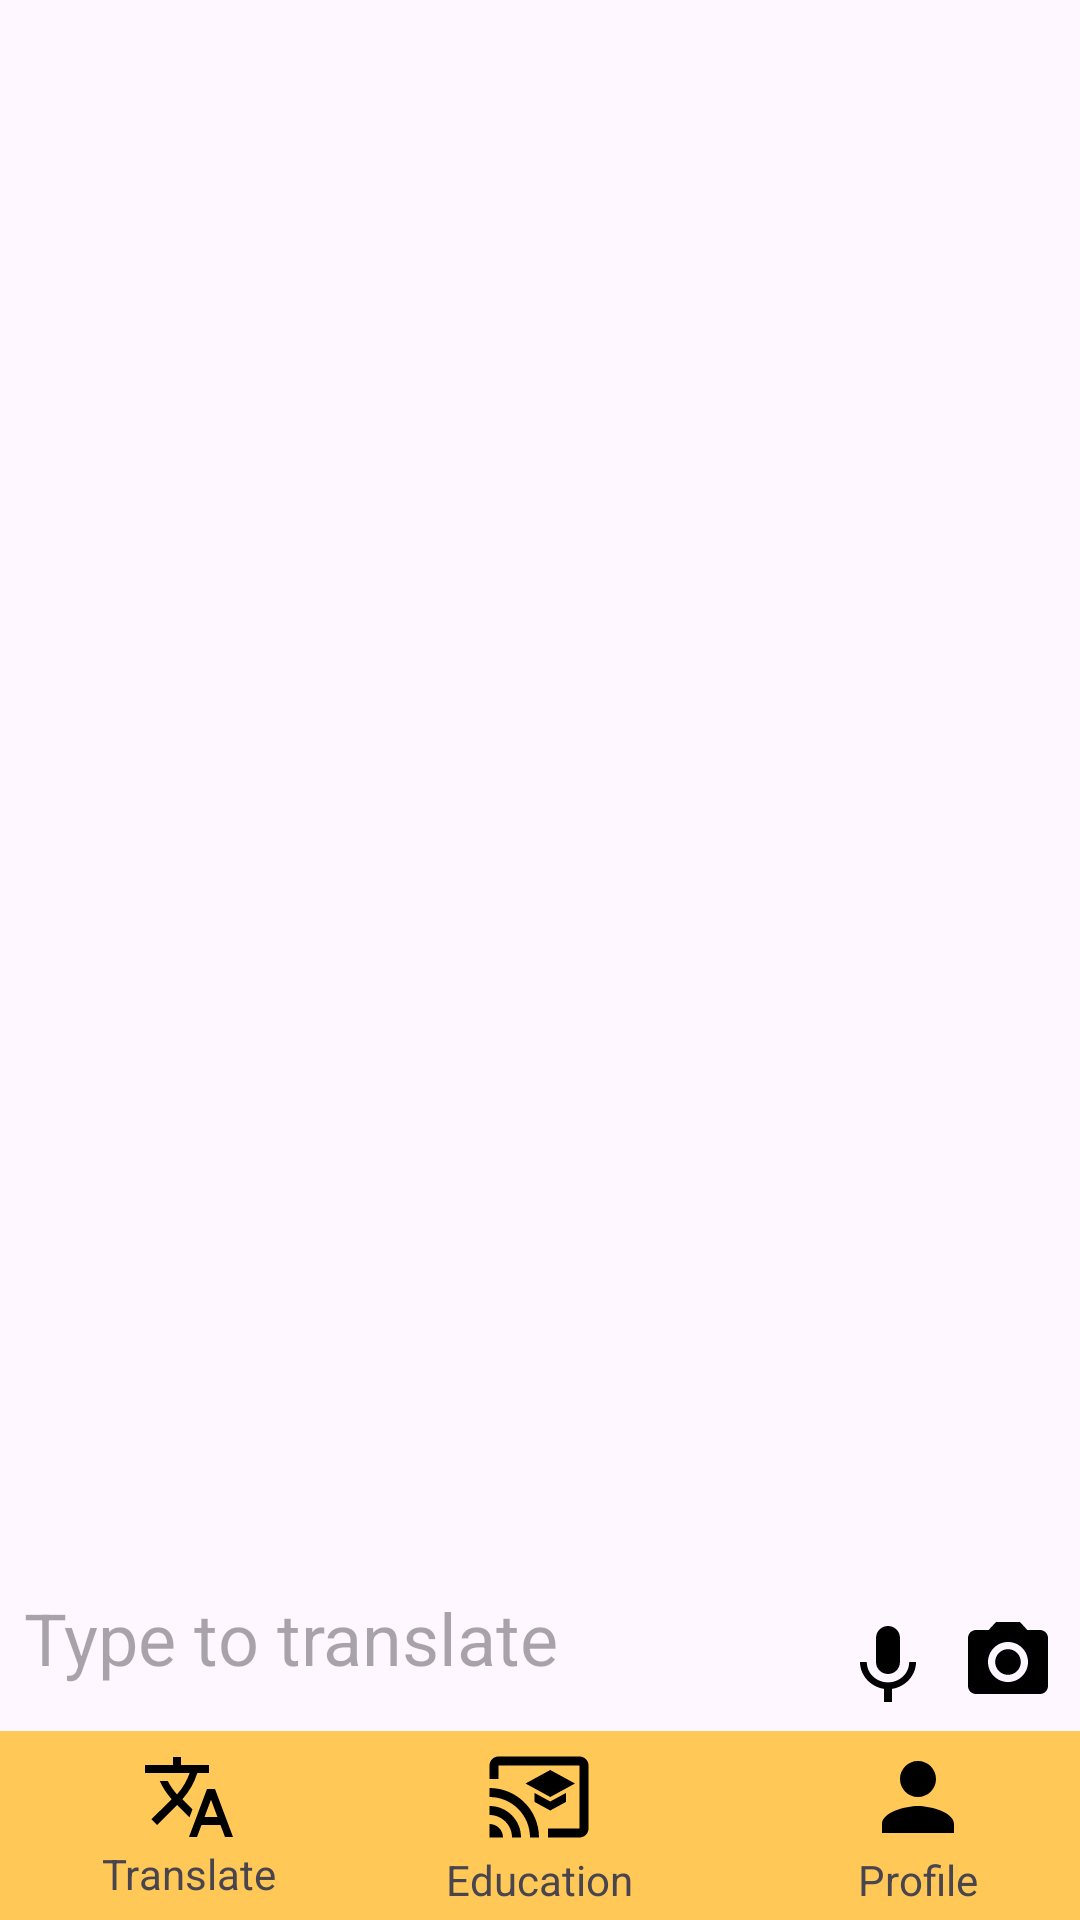

Screen size 1080px x 1920px. Icon name, then its center in pixels as (x,y):
keyboard voice: (888,1664)
person: (918,1797)
photo camera: (1008,1658)
